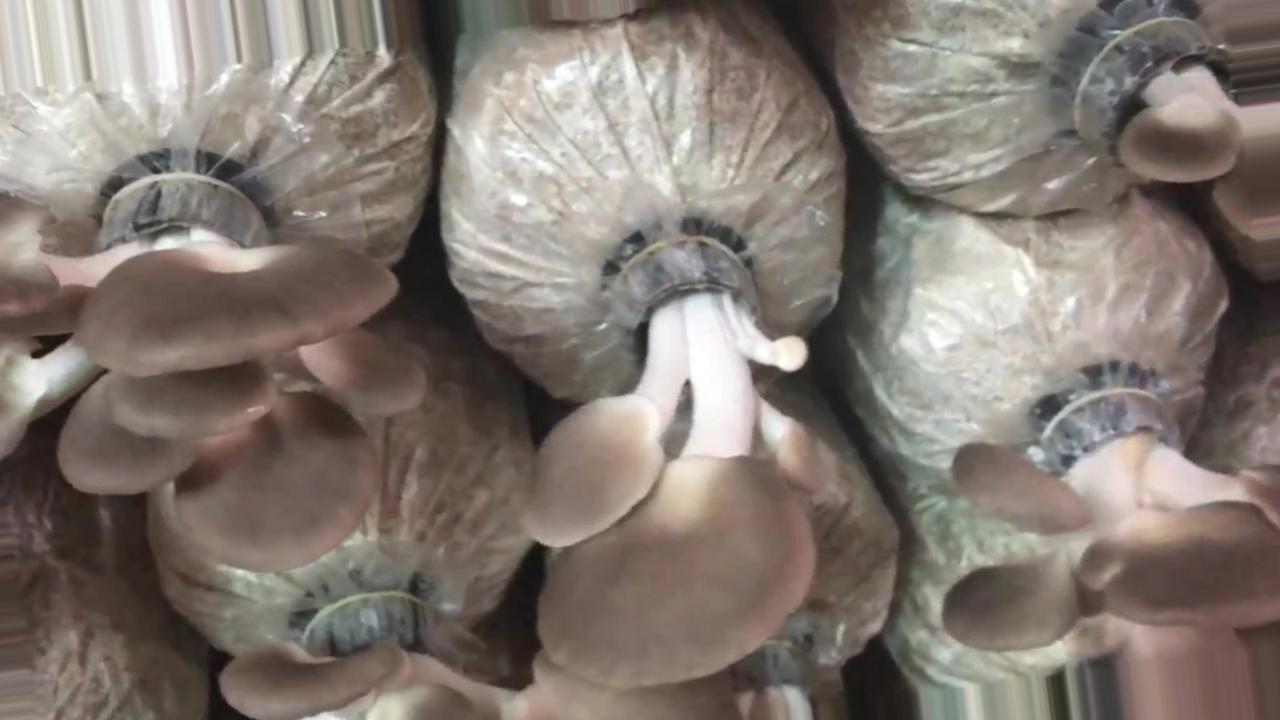nam: (1, 167, 425, 572), (532, 239, 825, 688), (946, 389, 1280, 655), (217, 595, 794, 720), (1095, 17, 1278, 242)
